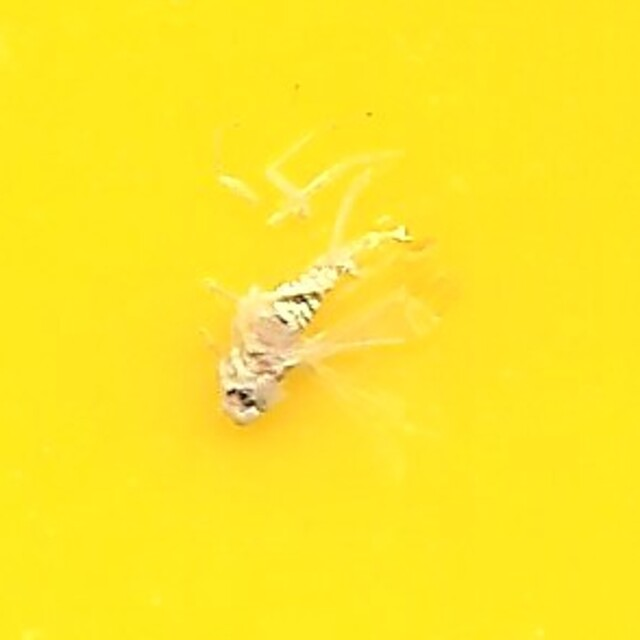Hemiptera: (218, 213, 422, 427)
